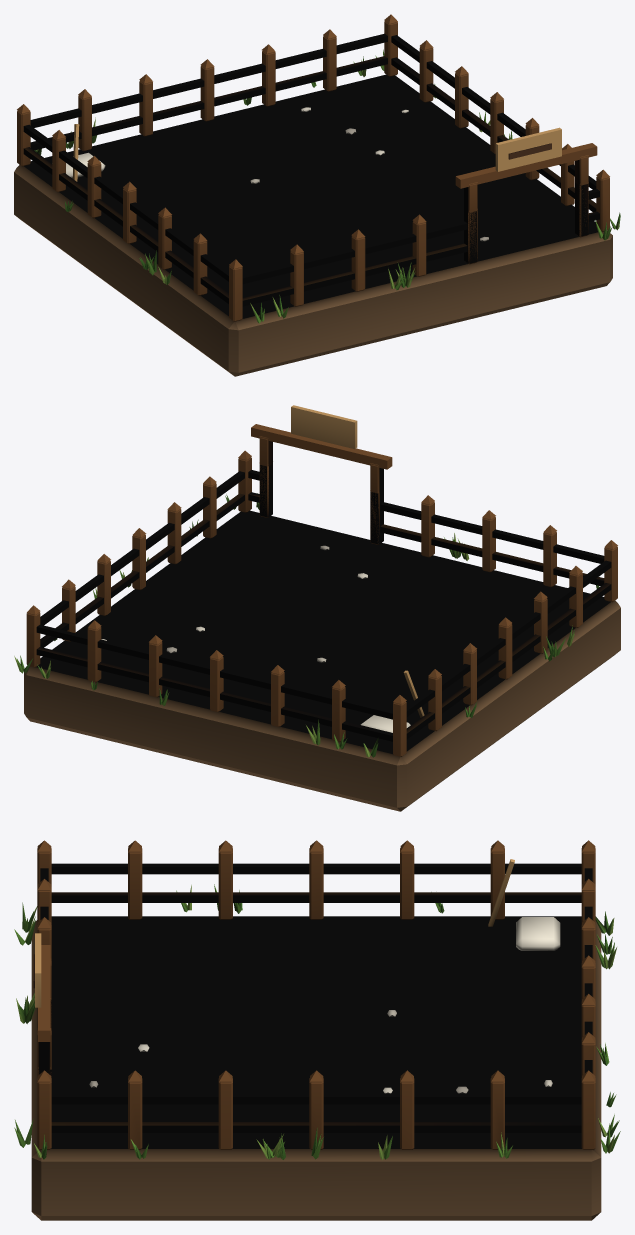
The model's file is yard.glb.
3 renders of one model, top to bottom at view 1: azimuth 30°, elevation 25°; view 2: azimuth 150°, elevation 25°; view 3: azimuth 270°, elevation 25°, orthographic. The views are drawn at different scales.
Parts seen in each view (by area): view 1: yard_l1; view 2: yard_l1; view 3: yard_l1.
Part boxes in pixels (x1,y1,x2,y2): yard_l1: (14, 14, 620, 376); yard_l1: (14, 405, 620, 811); yard_l1: (14, 840, 620, 1220).
Bounding box in the file's own units: 1.92 × 0.76 × 1.92.
